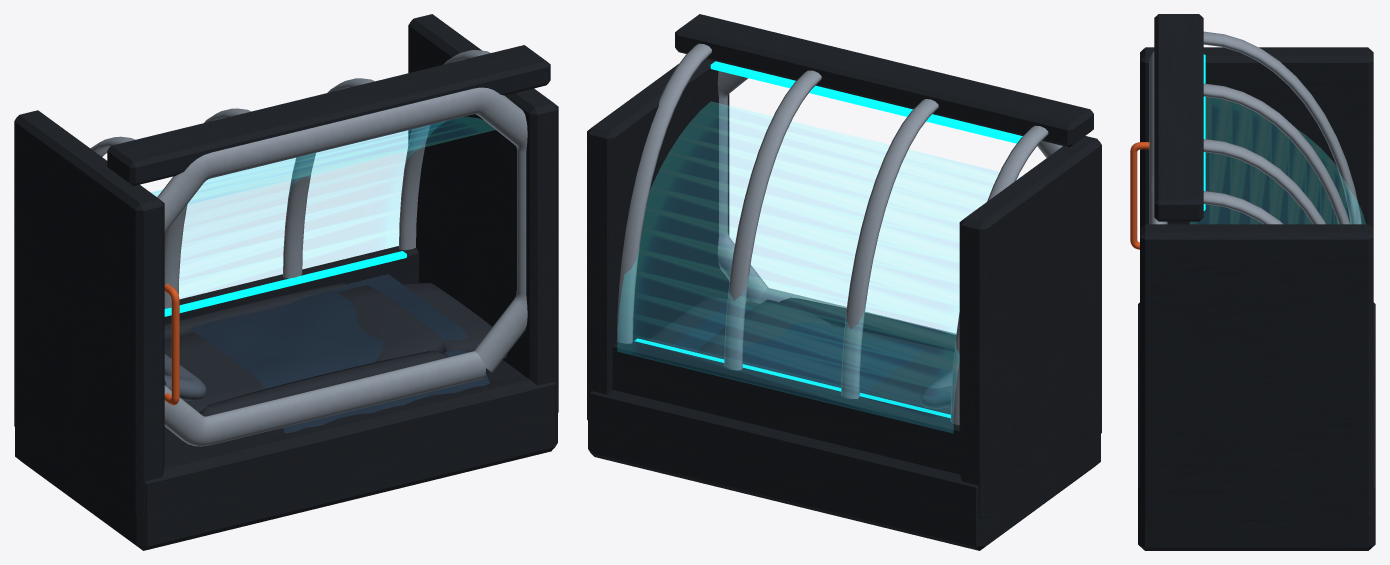
Rendered from bunk_r2_01.glb.
3 renders of one model, left to right at view 1: azimuth 30°, elevation 25°; view 2: azimuth 150°, elevation 25°; view 3: azimuth 270°, elevation 25°, orthographic. The views are drawn at different scales.
Parts seen in each view (by area): view 1: BlisterPod_GunmetalChassis, BlisterPod_MachinedSteelRibs, BlisterPod_TranslucentBlisterGlass, BlisterPod_DrapedNavyCoverlet, BlisterPod_CharcoalFlightCouch, BlisterPod_CyanPerimeterLED, BlisterPod_SignalOrangeGrabBar, BlisterPod_SlateHeadCradle; view 2: BlisterPod_GunmetalChassis, BlisterPod_TranslucentBlisterGlass, BlisterPod_MachinedSteelRibs, BlisterPod_CharcoalFlightCouch, BlisterPod_DrapedNavyCoverlet, BlisterPod_CyanPerimeterLED, BlisterPod_SlateHeadCradle; view 3: BlisterPod_GunmetalChassis, BlisterPod_TranslucentBlisterGlass, BlisterPod_MachinedSteelRibs, BlisterPod_SignalOrangeGrabBar, BlisterPod_CyanPerimeterLED.
Part boxes in pixels (x1,y1,x2,y2): BlisterPod_GunmetalChassis: (14, 14, 558, 550); BlisterPod_MachinedSteelRibs: (90, 50, 527, 446); BlisterPod_TranslucentBlisterGlass: (151, 117, 494, 298); BlisterPod_DrapedNavyCoverlet: (190, 274, 489, 433); BlisterPod_CharcoalFlightCouch: (164, 283, 507, 416); BlisterPod_CyanPerimeterLED: (164, 251, 406, 316); BlisterPod_SignalOrangeGrabBar: (164, 284, 179, 405); BlisterPod_SlateHeadCradle: (164, 354, 206, 400); BlisterPod_GunmetalChassis: (587, 14, 1101, 550); BlisterPod_TranslucentBlisterGlass: (618, 102, 1019, 432); BlisterPod_MachinedSteelRibs: (616, 43, 1062, 425); BlisterPod_CharcoalFlightCouch: (648, 297, 956, 414); BlisterPod_DrapedNavyCoverlet: (670, 305, 928, 393); BlisterPod_CyanPerimeterLED: (634, 61, 1022, 418); BlisterPod_SlateHeadCradle: (920, 369, 952, 408); BlisterPod_GunmetalChassis: (1138, 14, 1375, 550); BlisterPod_TranslucentBlisterGlass: (1190, 97, 1364, 223); BlisterPod_MachinedSteelRibs: (1149, 31, 1361, 224); BlisterPod_SignalOrangeGrabBar: (1130, 142, 1149, 249); BlisterPod_CyanPerimeterLED: (1203, 54, 1205, 210).
Bounding box in the file's own units: 2.19 × 1.9 × 1.2.
Materials: 9 (9 with a texture image).
